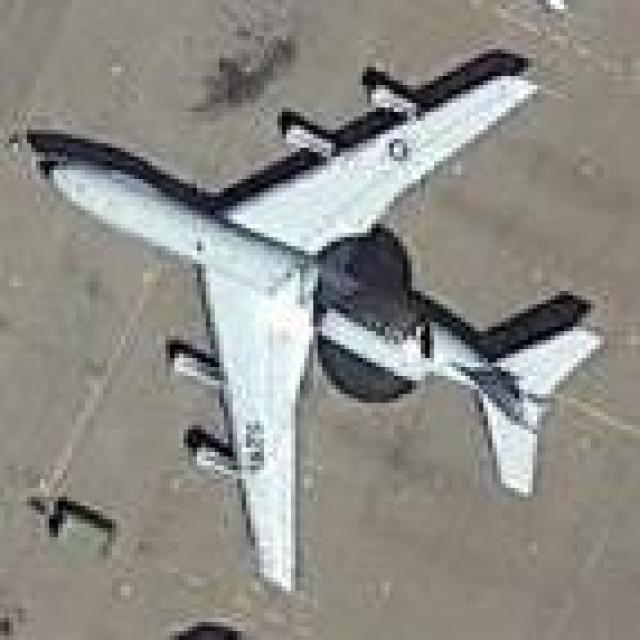E-3_TopDown: (13, 41, 604, 596)
